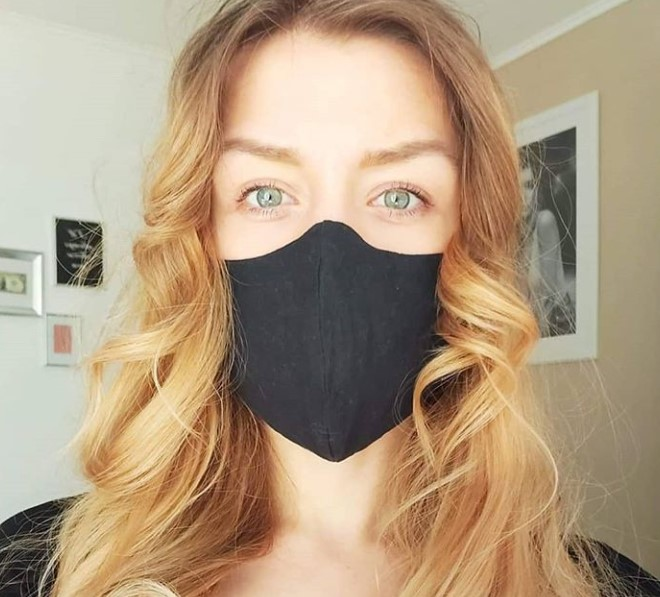face_with_mask: (172, 3, 506, 468)
